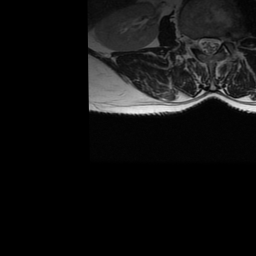CCS_normal: (205, 28, 213, 62)
LFS_stenosis: (221, 25, 229, 51)
LLS_normal: (213, 28, 222, 60)
RFS_normal: (189, 28, 196, 56)
RLS_normal: (196, 28, 205, 58)
